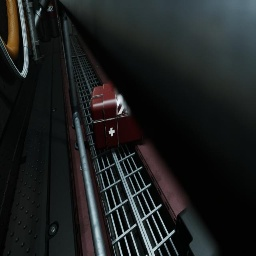FirstAidBox ,: (90, 84, 146, 150)
NitrogenTank ,: (47, 0, 60, 38), (40, 10, 51, 42)
